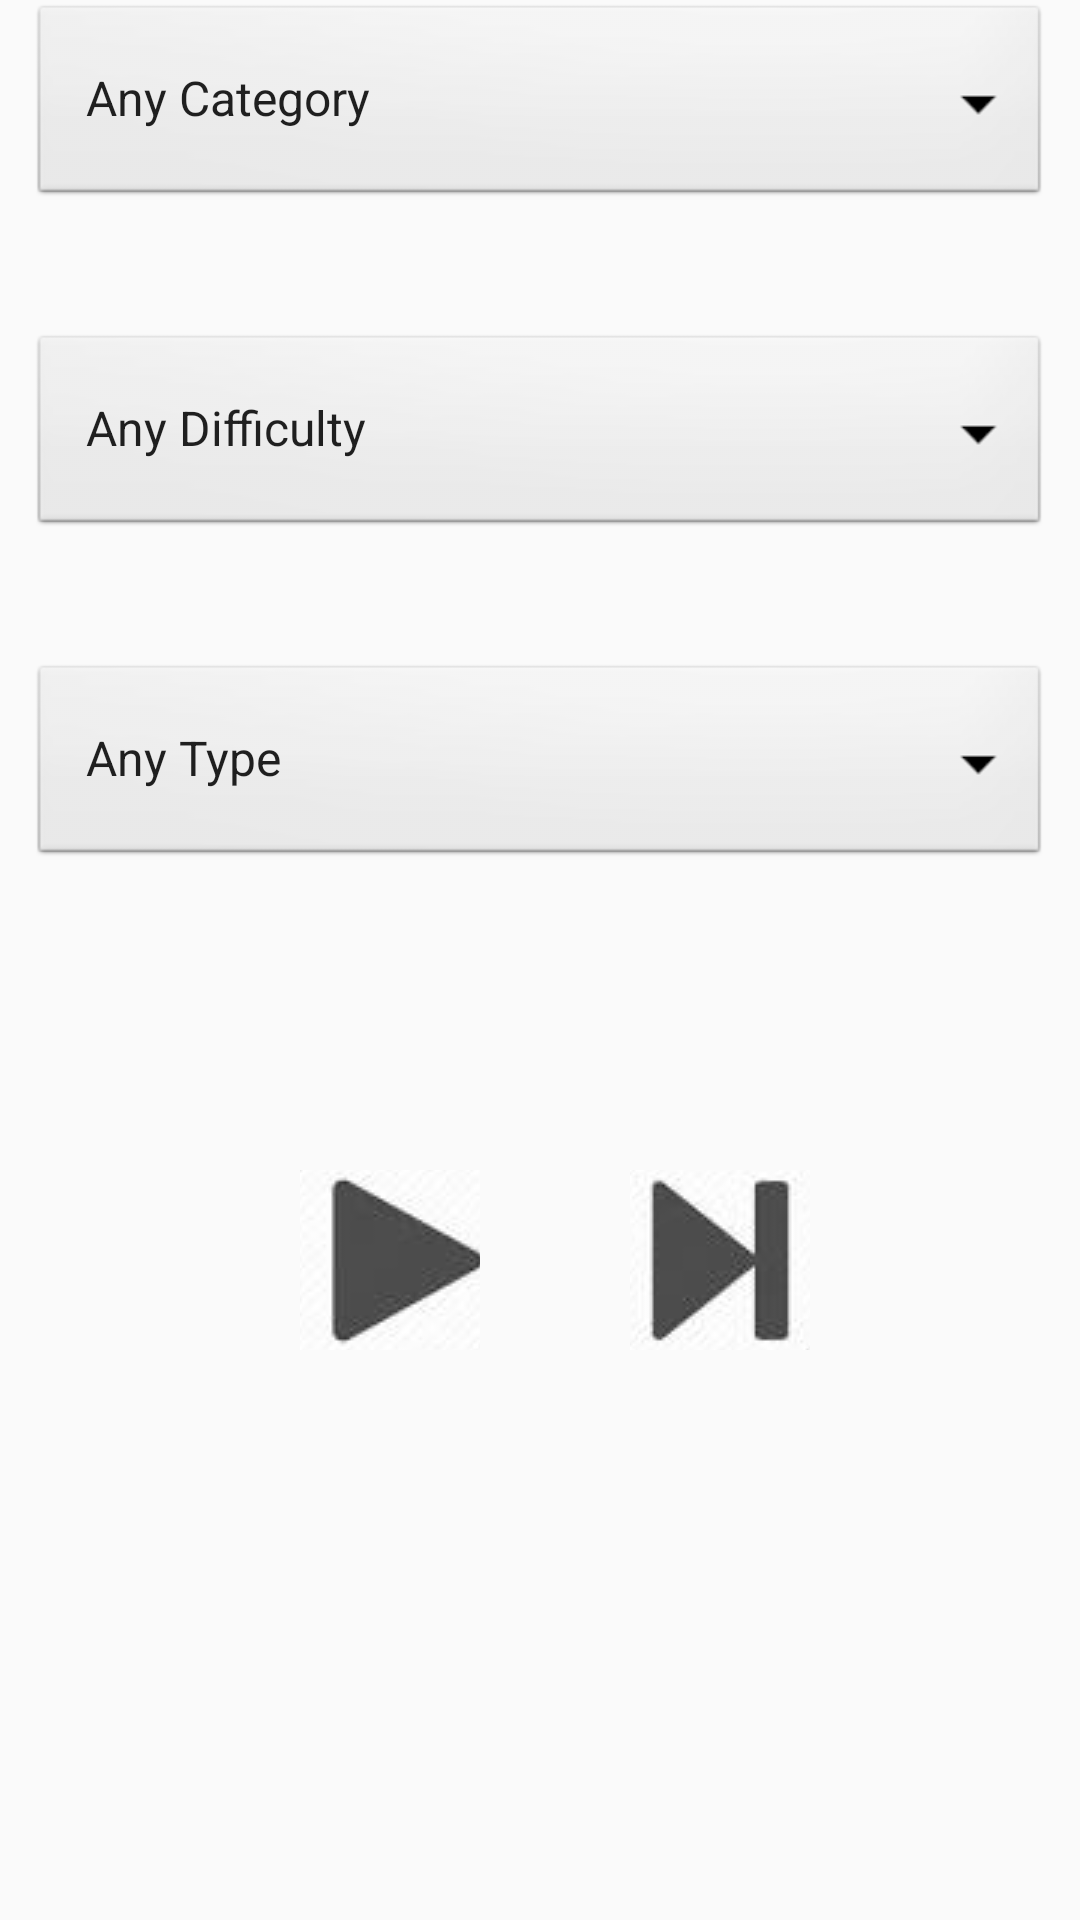

Screen size 1080*1920. Icon name, then its box in pixels as (x1, y1, x2, y2):
play: (331, 1177, 480, 1344)
skip: (650, 1179, 791, 1341)
